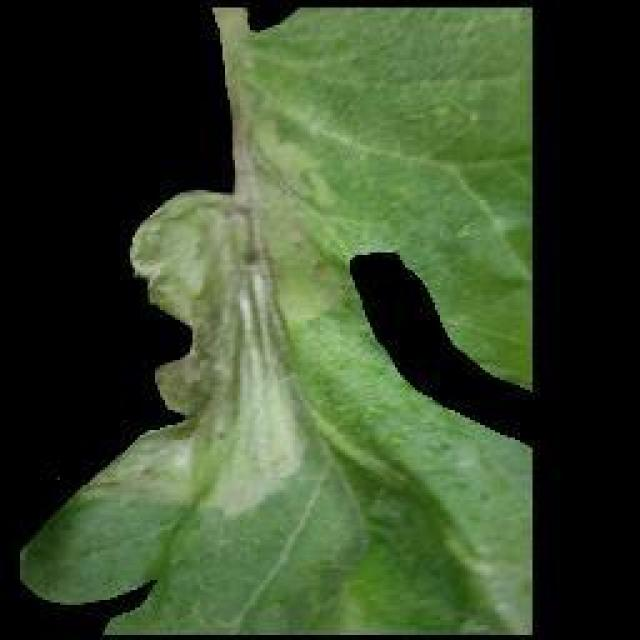Tomato Late Blight: (90, 33, 322, 515)
